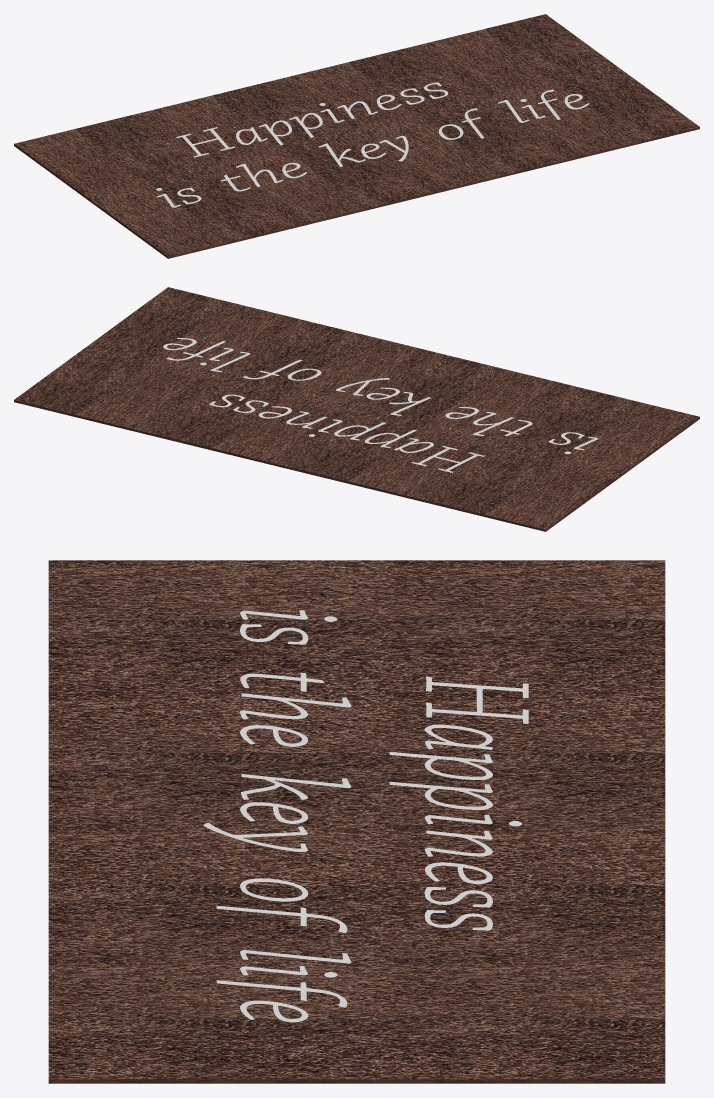
File: doormat.FBX
3 renders of one model, top to bottom at view 1: azimuth 30°, elevation 25°; view 2: azimuth 150°, elevation 25°; view 3: azimuth 270°, elevation 25°, orthographic. The views are drawn at different scales.
Parts seen in each view (by area): view 1: Box001, TextPlus001; view 2: Box001, TextPlus001; view 3: Box001, TextPlus001.
Part boxes in pixels (x1,y1,x2,y2): Box001: (14,14,699,258); TextPlus001: (156,82,589,207); Box001: (14,287,699,531); TextPlus001: (163,338,597,472); Box001: (48,560,665,1083); TextPlus001: (203,610,528,1022).
Bounding box in the file's own units: 79.78 × 0.4047 × 40.07.
Materials: 1 (1 with a texture image).
